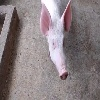heo: (38, 1, 74, 81)
